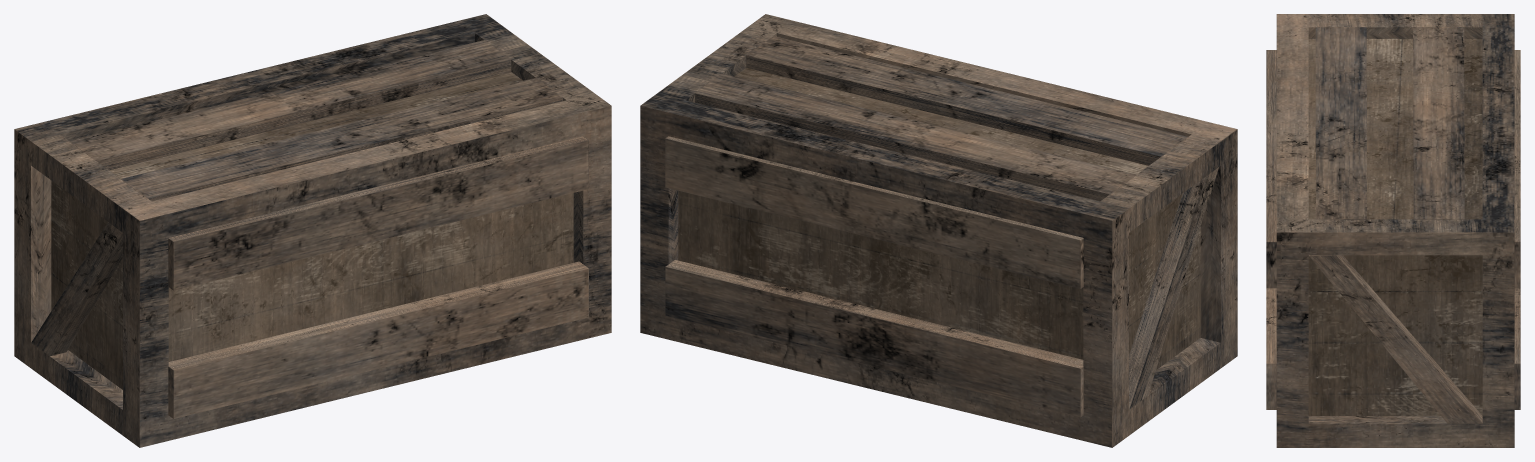
The model's file is CrateBox_Big_TX.fbx.
3 renders of one model, left to right at view 1: azimuth 30°, elevation 25°; view 2: azimuth 150°, elevation 25°; view 3: azimuth 270°, elevation 25°, orthographic. The views are drawn at different scales.
Parts seen in each view (by area): view 1: CrateBigggg; view 2: CrateBigggg; view 3: CrateBigggg.
Boxes of the visible parts, x1,y1,x2,y2 form: CrateBigggg: (14,14,611,447); CrateBigggg: (640,14,1237,447); CrateBigggg: (1266,14,1520,447).
Bounding box in the file's own units: 297 × 136 × 146.
1 material, 1 textured.
